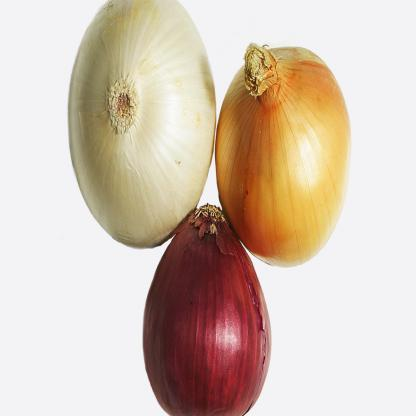onion: (216, 15, 364, 284), (66, 2, 216, 245), (148, 190, 277, 416)
